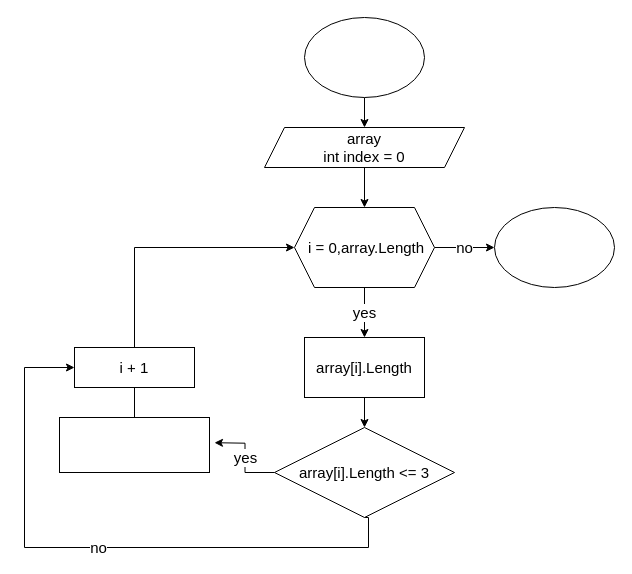
Some shapes in this 632 by 574 pixel diagram are drawn without their labels. Each missing label, with the centre of its shape:
"newArray[i]" goes at point (554, 247).
"newArray[index] = array[i]" goes at point (134, 444).
"Start" goes at point (364, 57).
